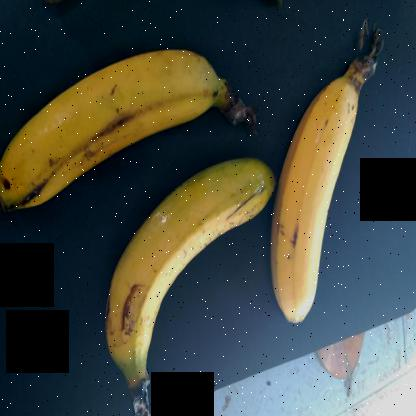freshripe: (262, 52, 382, 333)
ripe: (1, 31, 248, 215), (89, 148, 283, 378)
